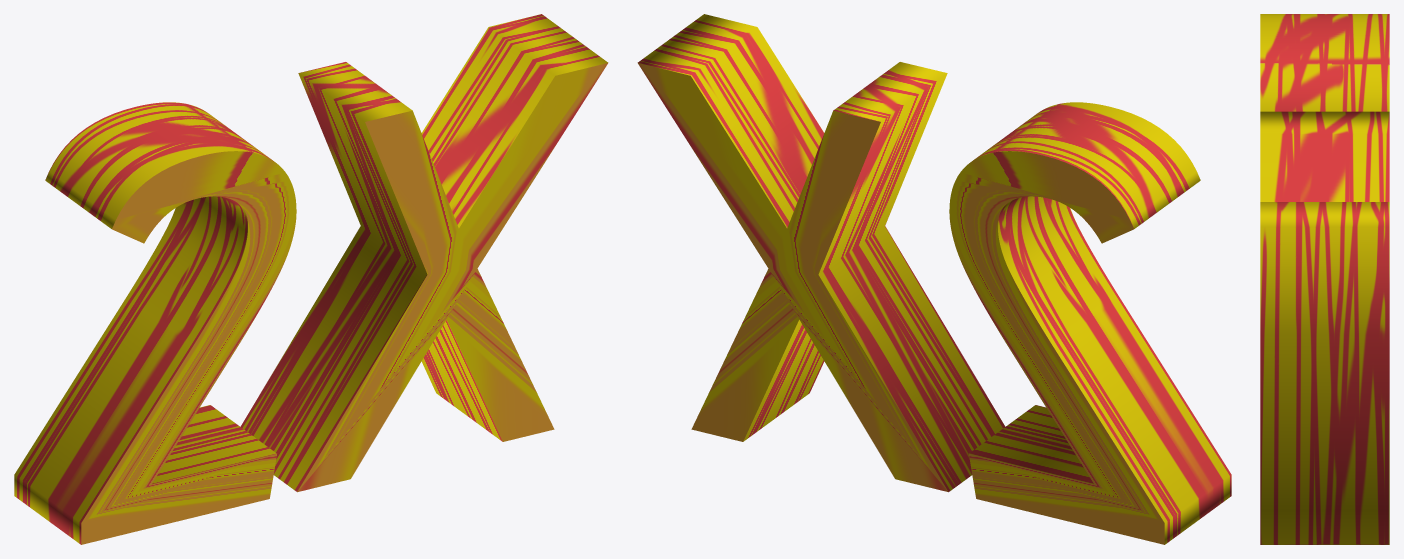
3 views of the same model, side by side, from view 1: azimuth 30°, elevation 25°; view 2: azimuth 150°, elevation 25°; view 3: azimuth 270°, elevation 25° (orthographic). The views are drawn at different scales.
Parts seen in each view (by area): view 1: Text.001; view 2: Text.001; view 3: Text.001.
Boxes of the visible parts, bbox=[...] form: Text.001: bbox=[14, 14, 608, 544]; Text.001: bbox=[637, 14, 1231, 544]; Text.001: bbox=[1260, 14, 1389, 544].
Size of the model in its own units: 91.26 by 59.5 by 20.
